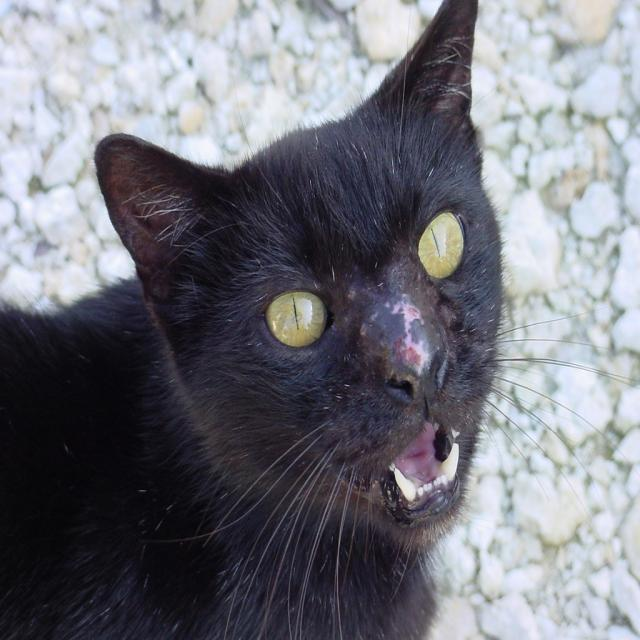Bombay: (91, 0, 506, 542)
